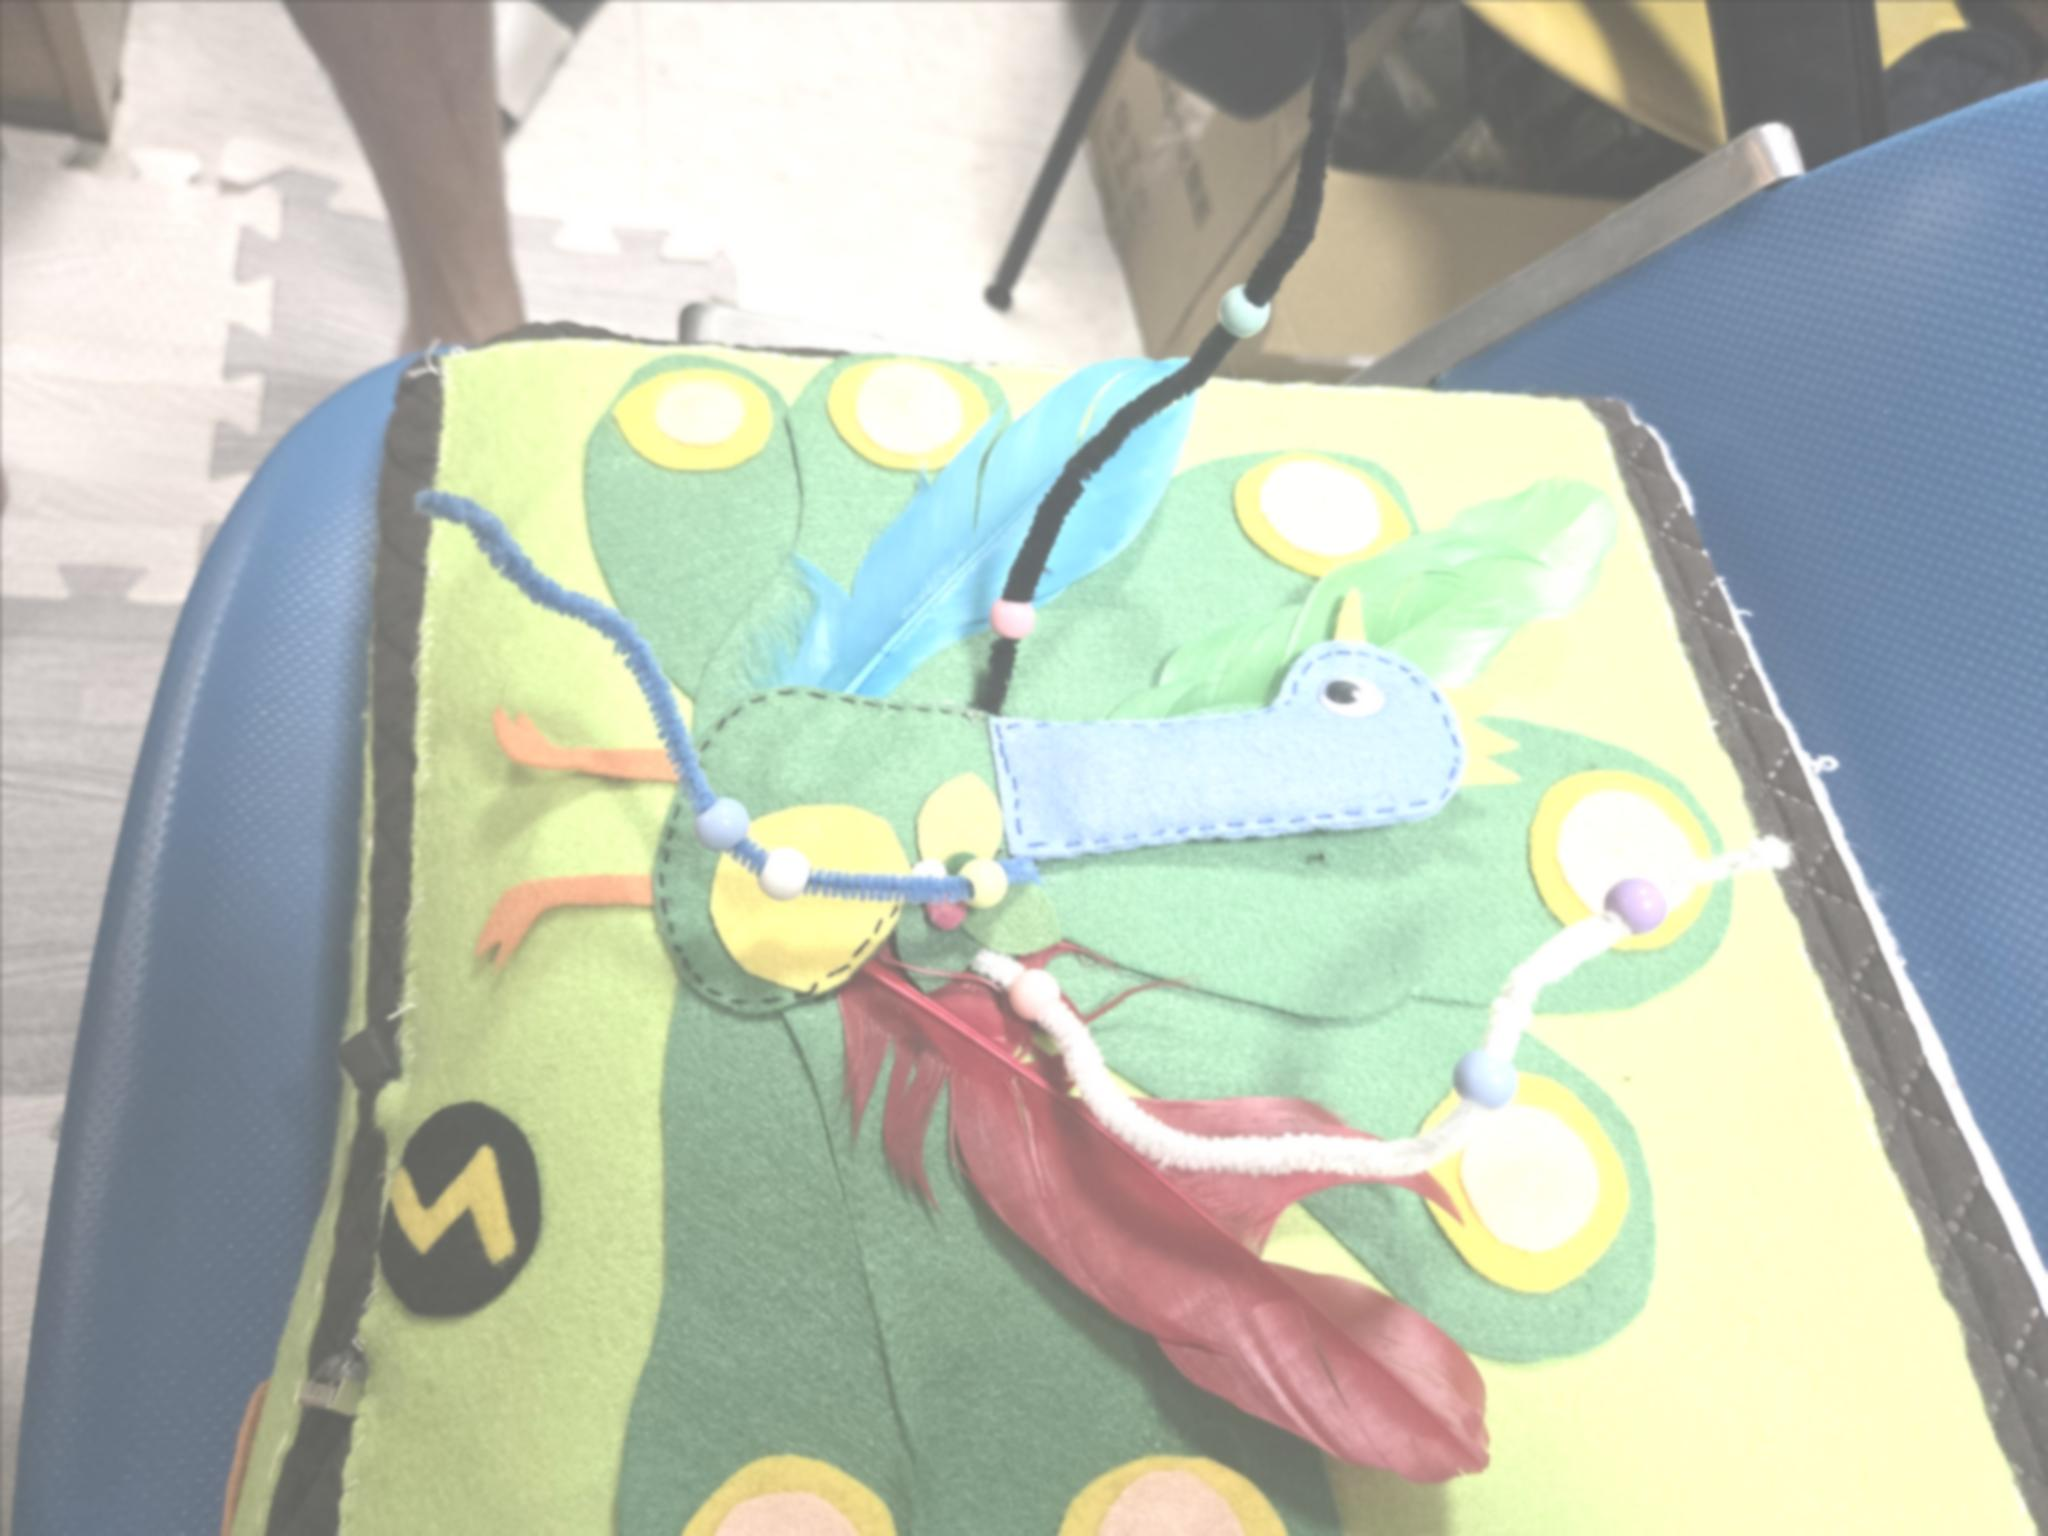bead: (1437, 1037, 1522, 1120), (1598, 870, 1677, 947), (750, 834, 824, 907), (956, 839, 1019, 923), (1005, 952, 1071, 1028), (1211, 276, 1277, 342), (690, 795, 755, 860), (979, 594, 1045, 649)
